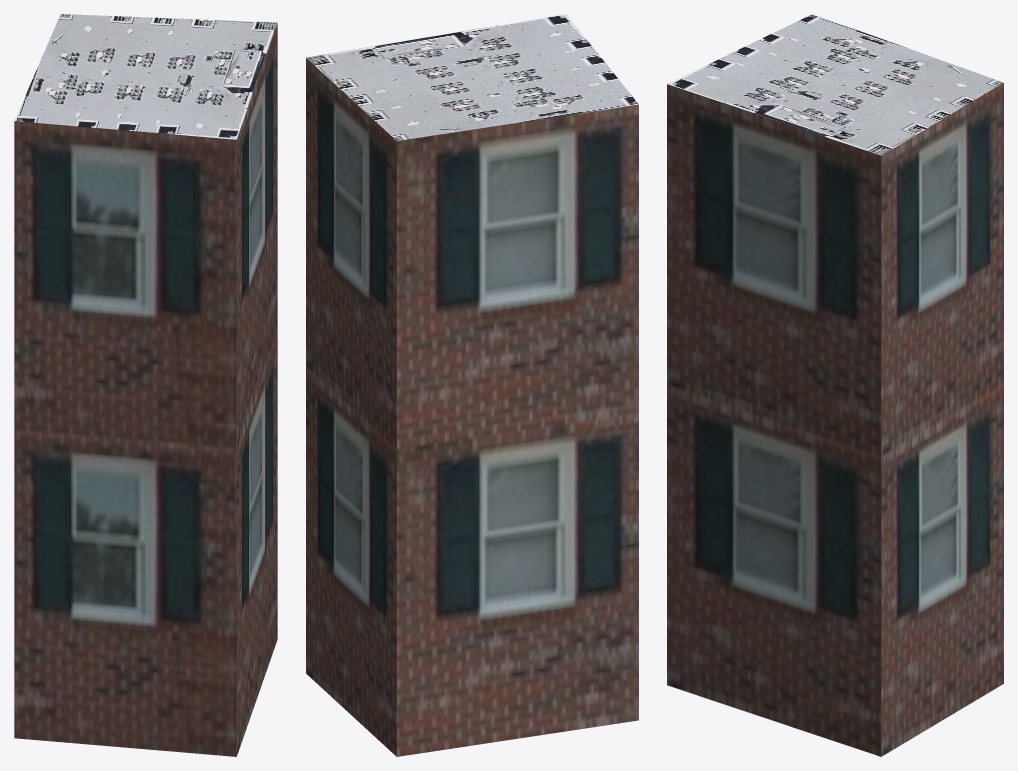
The model's file is ResTex__3009.fbx.
The picture shows the model from 3 angles, left to right: view 1: azimuth 30°, elevation 25°; view 2: azimuth 150°, elevation 25°; view 3: azimuth 270°, elevation 25°; orthographic projection. The views are drawn at different scales.
Visible parts, largest first — view 1: CityEngineMaterial_14_m, CityEngineMaterial_m; view 2: CityEngineMaterial_14_m, CityEngineMaterial_m; view 3: CityEngineMaterial_14_m, CityEngineMaterial_m.
Boxes of the visible parts, x1,y1,x2,y2 form: CityEngineMaterial_14_m: (14, 23, 277, 756); CityEngineMaterial_m: (14, 14, 277, 139); CityEngineMaterial_14_m: (306, 58, 638, 756); CityEngineMaterial_m: (306, 14, 638, 140); CityEngineMaterial_14_m: (667, 83, 1003, 756); CityEngineMaterial_m: (667, 14, 1003, 155).
Size of the model in its own units: 3.04 by 6 by 3.05.
Materials: 2 (2 with a texture image).
